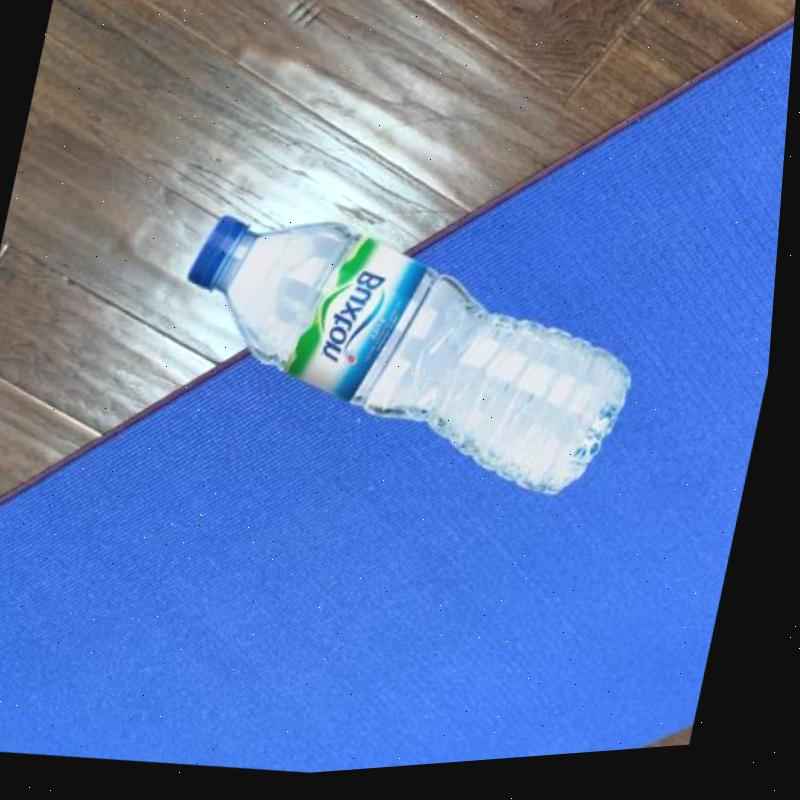botella: (150, 188, 667, 533)
